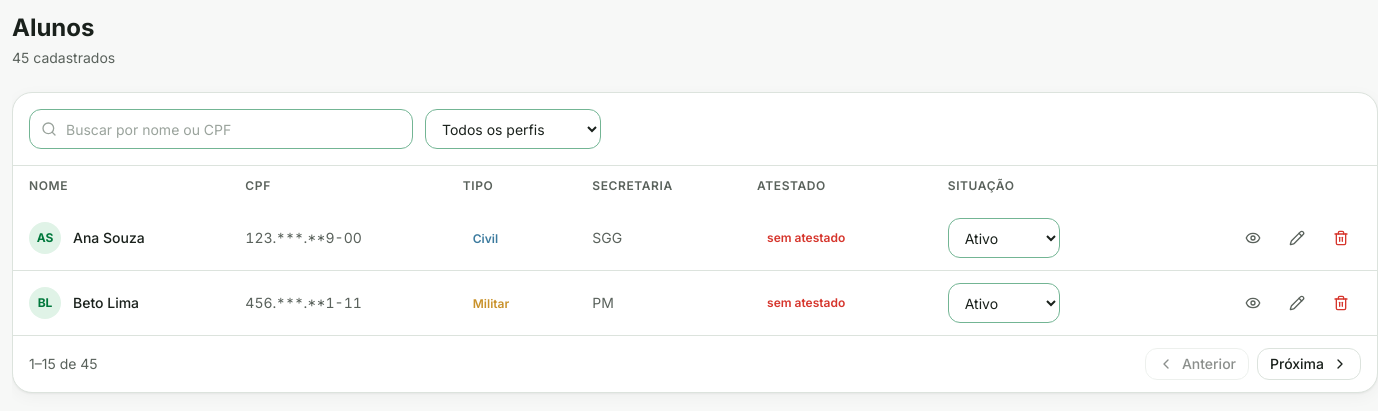
Test: Students - paginação › avança e volta de página corretamente
This screenshot has width=1378, height=411.
Check: the text "1–15 de 45" is shown, box [29,354,98,374]
Check: the button "Anterior" is disabled, box [1145,348,1249,380]
Click the button "Próxima": (1309, 364) [1257,348,1361,380]
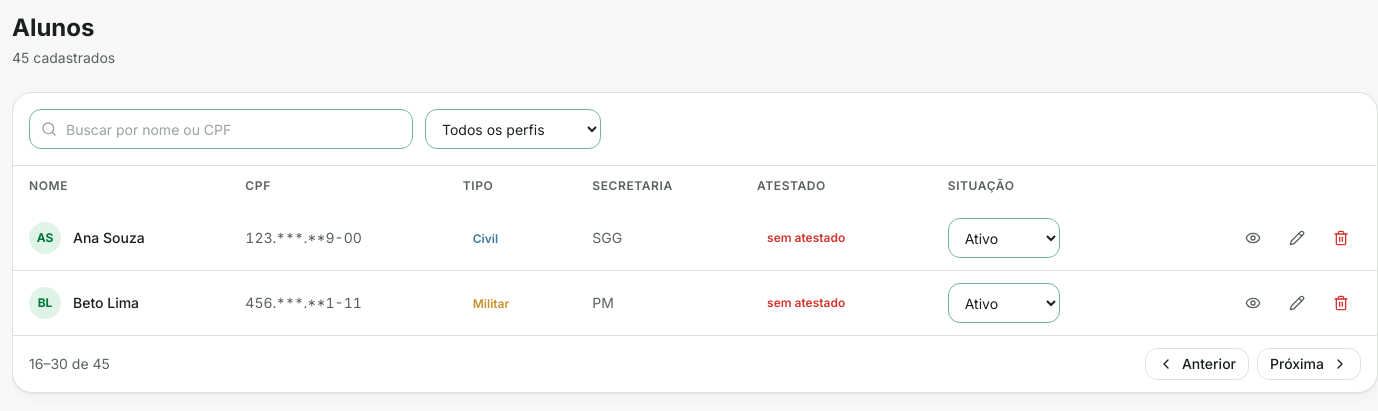
Check: the text "16–30 de 45" is shown, box [29,354,110,374]
Check: the button "Anterior" is enabled
Click the button "Anterior": (1197, 364) [1145,348,1249,380]
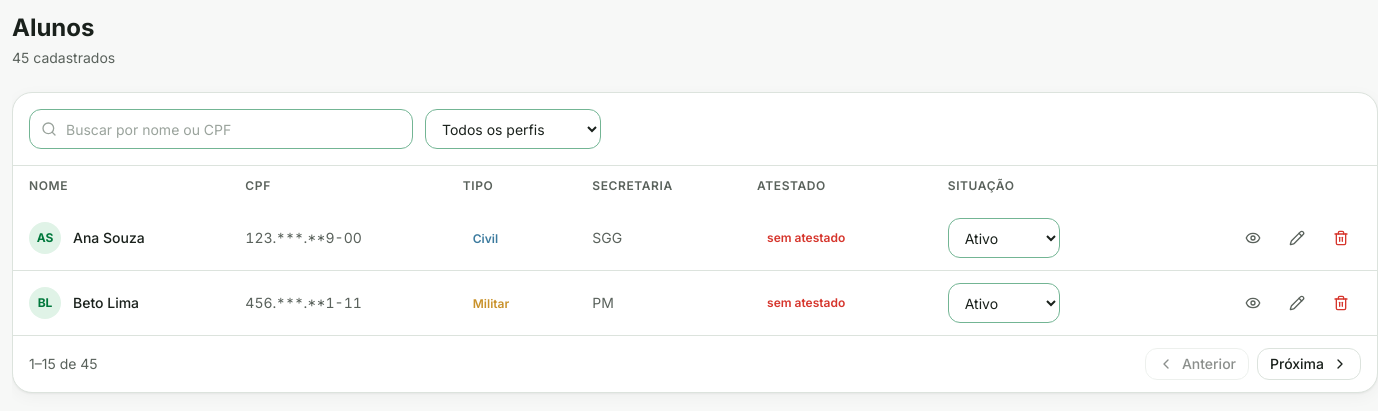
Check: the text "1–15 de 45" is shown, box [29,354,98,374]
